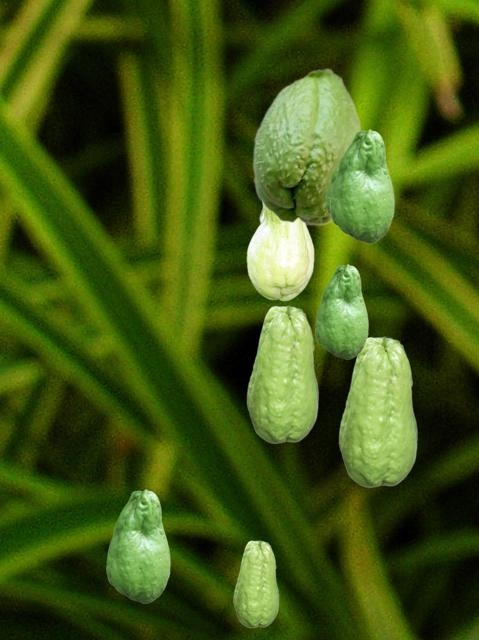sayote: (252, 67, 361, 225), (338, 336, 417, 487), (246, 305, 318, 443), (330, 129, 393, 242), (106, 489, 169, 602), (246, 205, 313, 300), (315, 264, 367, 358), (233, 540, 278, 627), (326, 157, 341, 213)
